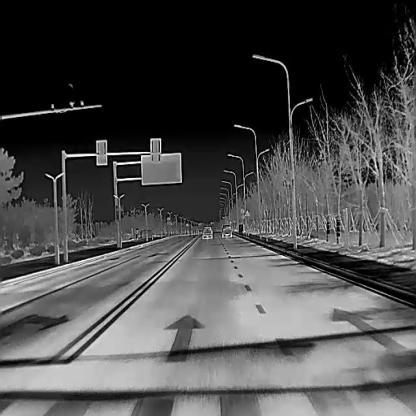car: (220, 224, 232, 238), (201, 225, 212, 240)
